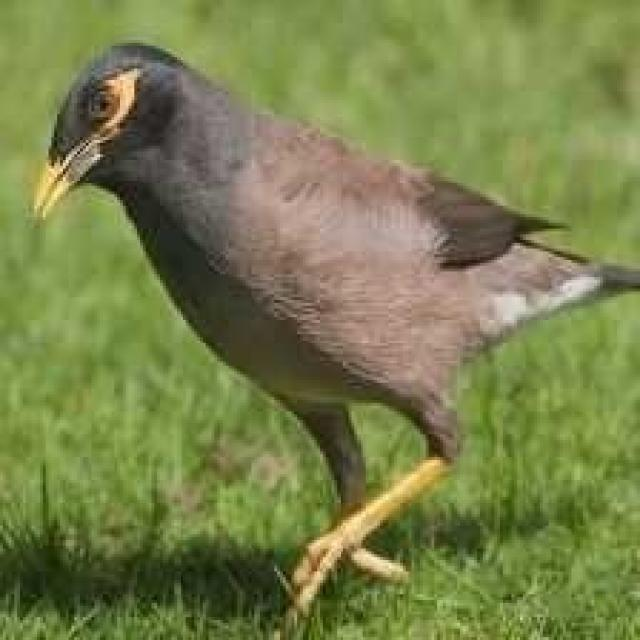bird: (29, 35, 640, 639)
